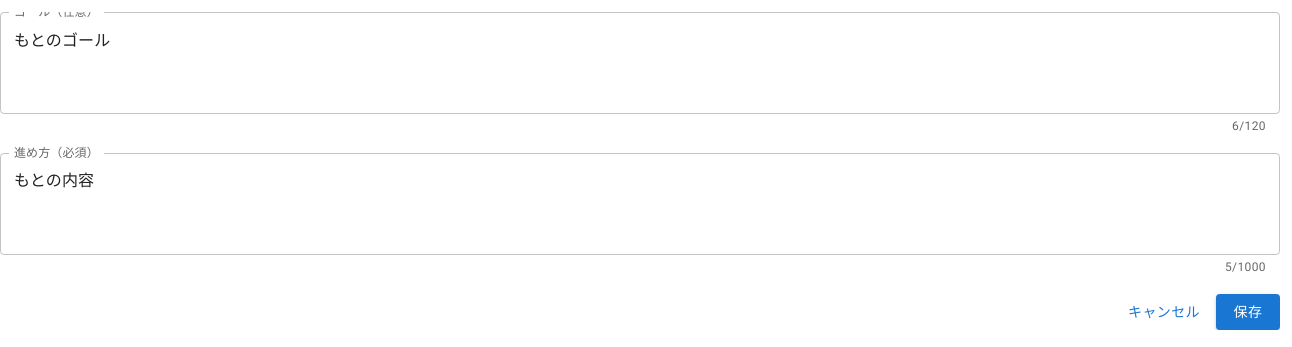
Scenario: RoadmapEditor 異常系 › content を空にして保存すると必須エラーが出て update は呼ばれない
content を空にする
Clear the text box labelled "進め方（必須）" at {"x": 640, "y": 204}, box [14,169,1266,238]
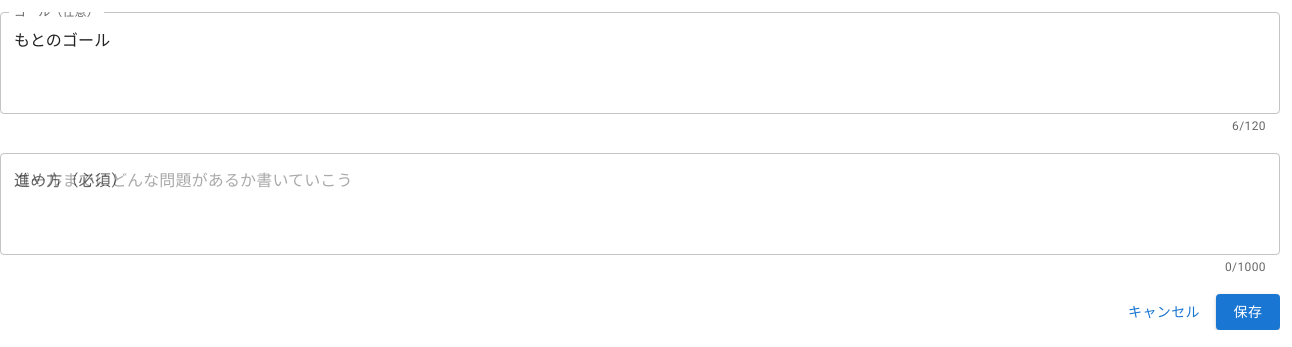
Click the button "保存" at {"x": 1248, "y": 312}, box [1216,294,1280,330]
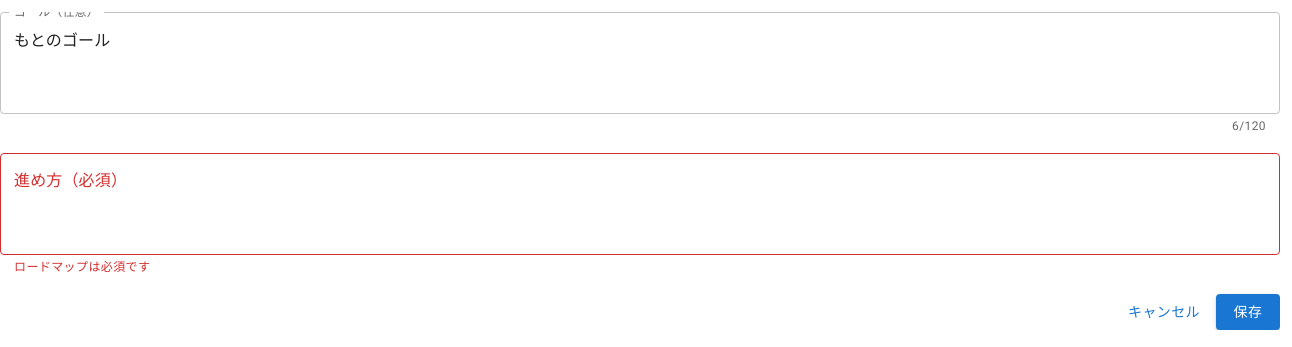
Expected: the text "ロードマップは必須です" is shown, [14,260,150,274]
